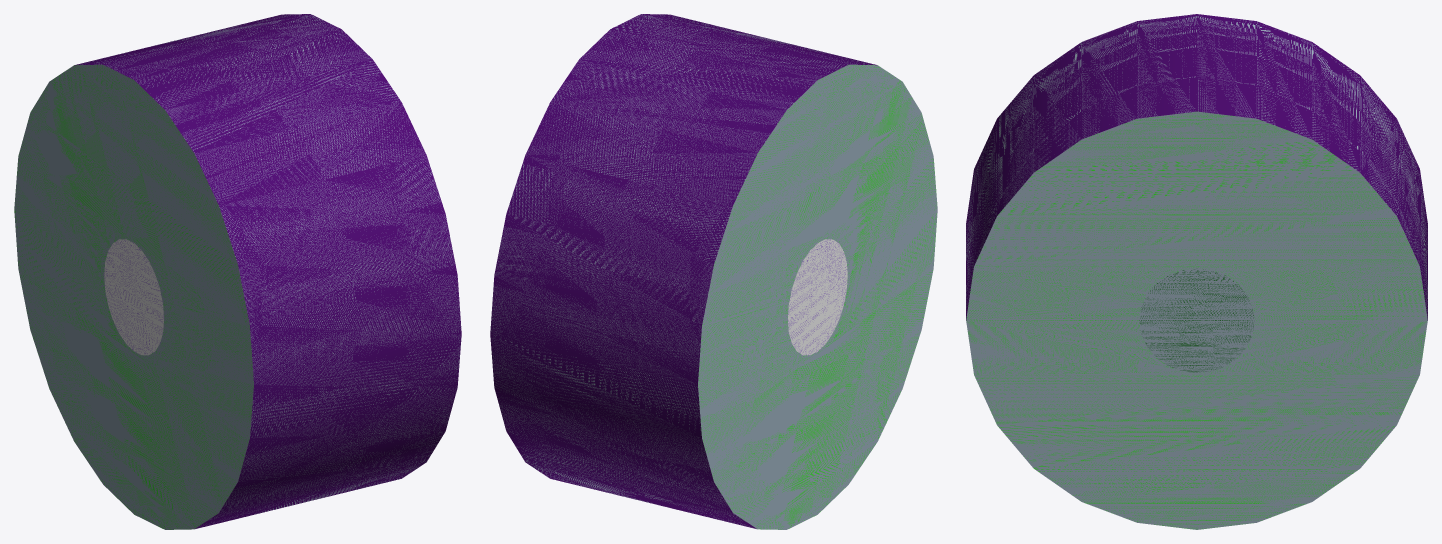
File: SimpleMagneticConduction.obj
The picture shows the model from 3 angles, left to right: view 1: azimuth 30°, elevation 25°; view 2: azimuth 150°, elevation 25°; view 3: azimuth 270°, elevation 25°; orthographic projection. The views are drawn at different scales.
Visible parts, largest first — view 1: Mesh1 Model; view 2: Mesh1 Model; view 3: Mesh1 Model.
Part boxes in pixels (x1=…): Mesh1 Model: x1=14, y1=14, x2=461, y2=529; Mesh1 Model: x1=490, y1=14, x2=937, y2=529; Mesh1 Model: x1=966, y1=14, x2=1427, y2=529.
Size of the model in its own units: 40 by 80 by 80.
